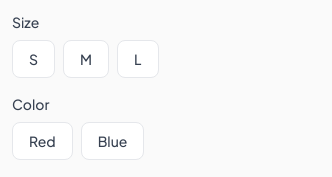
Scenario: VariantSelector › shows out-of-stock badge for zero-stock variants
Click the button with test id "option-Size-M": (86, 59) [63, 40, 109, 78]
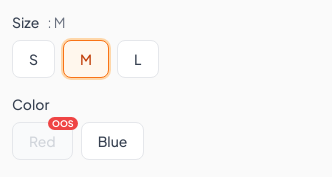
Now the button with test id "option-Color-Red" is disabled, box [12, 122, 73, 160]
Now the text "OOS" is shown, box [48, 117, 78, 130]
